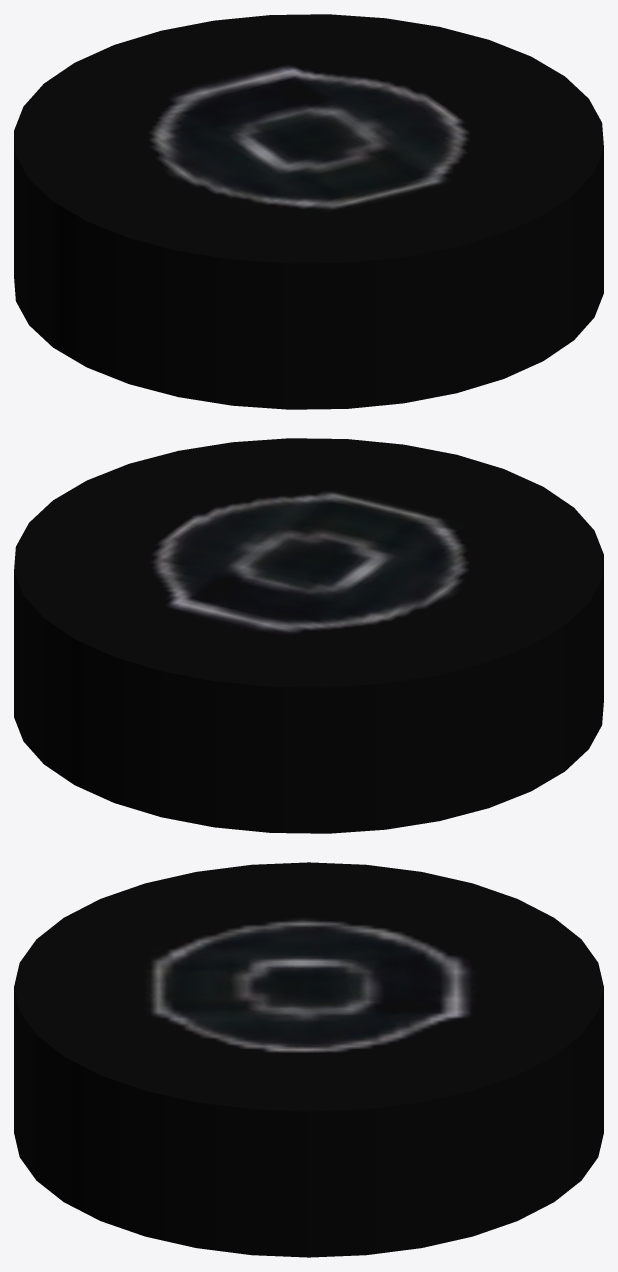
Rendered from front_wheel_1__tire.glb.
3 renders of one model, top to bottom at view 1: azimuth 30°, elevation 25°; view 2: azimuth 150°, elevation 25°; view 3: azimuth 270°, elevation 25°, orthographic.
Parts seen in each view (by area): view 1: geometry_0; view 2: geometry_0; view 3: geometry_0.
Part boxes in pixels (x1,y1,x2,y2): geometry_0: (14, 14, 603, 409); geometry_0: (14, 438, 603, 833); geometry_0: (14, 862, 603, 1257).
Size of the model in its own units: 0.11 by 0.03 by 0.11.
Materials: 1 (1 with a texture image).
